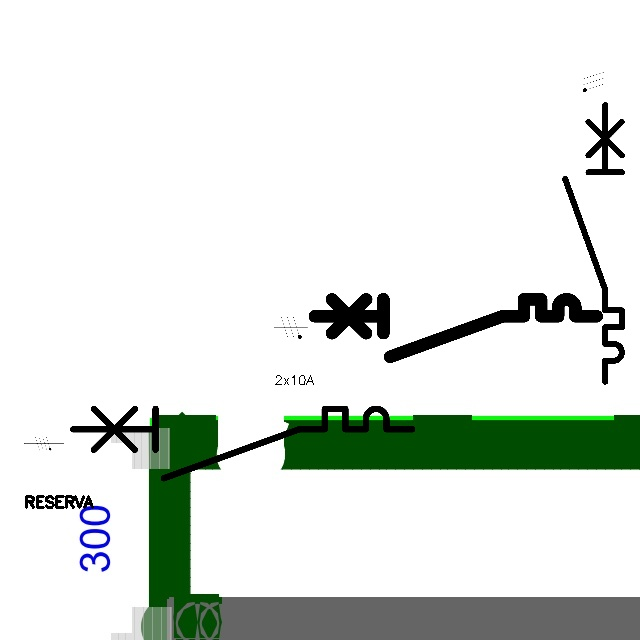interruptor_termomagnetico: (64, 400, 421, 487), (307, 292, 604, 364), (558, 98, 629, 389)
